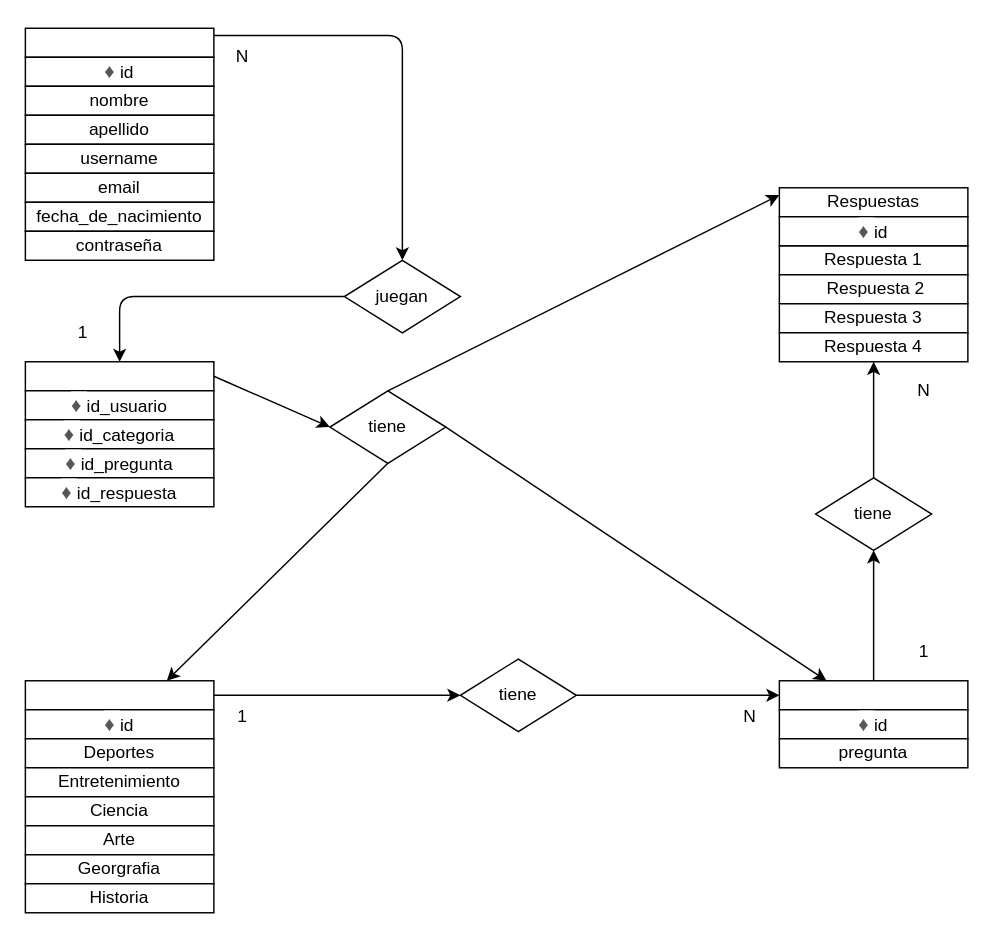
The diagram is 993 pixels wide and 938 high, and some of its shapes have lost their labels. Each missing label, with the centre of its shape:
Categoria: point (119, 694)
Juego: point (119, 375)
Preguntas: point (873, 694)
Usuarios: point (119, 42)
